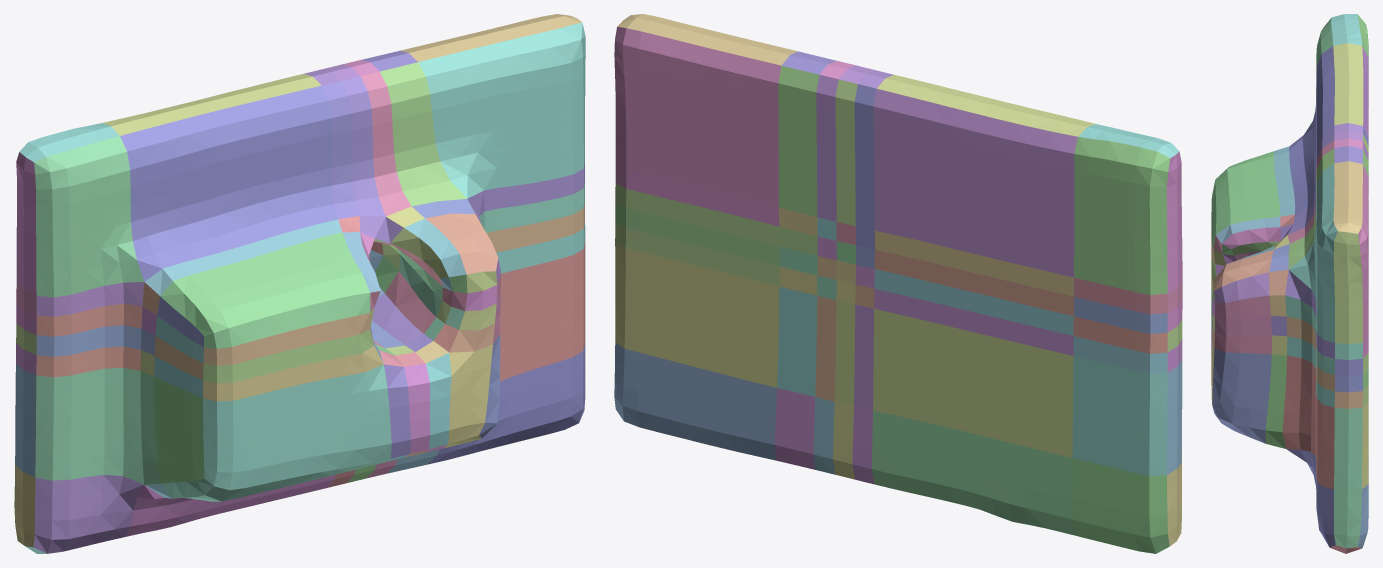
File: drillhole_patch_color.obj
The picture shows the model from 3 angles, left to right: view 1: azimuth 30°, elevation 25°; view 2: azimuth 150°, elevation 25°; view 3: azimuth 270°, elevation 25°; orthographic projection. The views are drawn at different scales.
Bounding box in the file's own units: 199 × 140 × 60.01.
